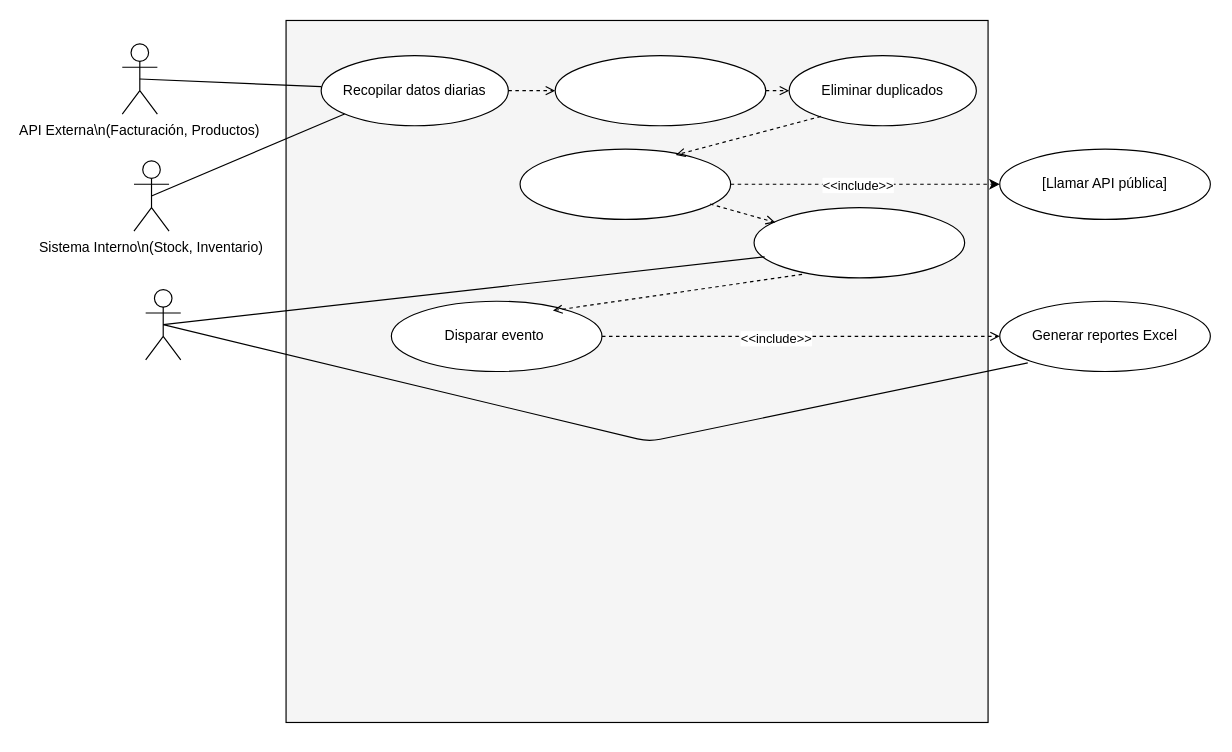
The diagram is 1232 pixels wide and 752 high, and some of its shapes have lost their labels. The centre of each missing label's shape, as x and y in pixels:
"Almacenar datos centralizados" goes at [859,242].
"Enriquecer datos" goes at [625,183].
"Limpiar y normalizar datos" goes at [660,90].
"Usuario Marketing" goes at [162,324].
